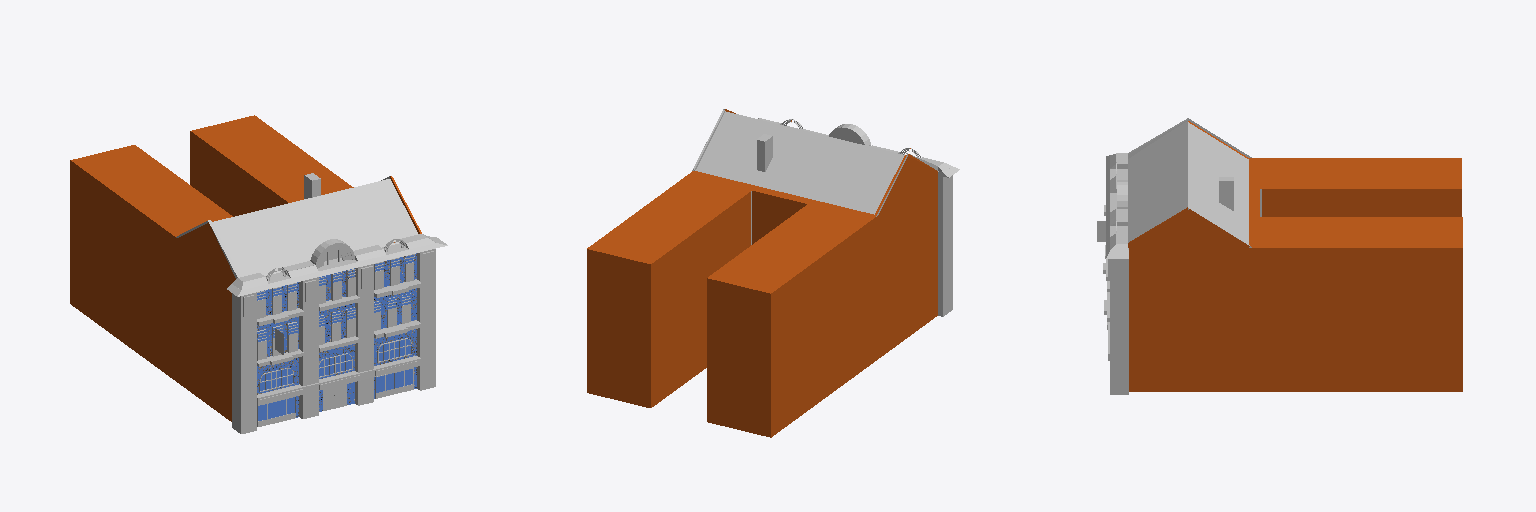
3 views of the same model, side by side, from view 1: azimuth 30°, elevation 25°; view 2: azimuth 150°, elevation 25°; view 3: azimuth 270°, elevation 25° (orthographic).
Visible parts, largest first — view 1: SketchUp.003, SketchUp.004, SketchUp.076, SketchUp.270, SketchUp.006, SketchUp.047, SketchUp.042, SketchUp.038, SketchUp.002; view 2: SketchUp.003, SketchUp.057, SketchUp.004; view 3: SketchUp.003, SketchUp.076, SketchUp.057, SketchUp.004, SketchUp.042.
Boxes of the visible parts, x1,y1,x2,y2 form: SketchUp.003: [70, 115, 421, 421]; SketchUp.004: [232, 249, 435, 433]; SketchUp.076: [213, 179, 417, 276]; SketchUp.270: [257, 253, 416, 417]; SketchUp.006: [310, 239, 357, 268]; SketchUp.047: [258, 258, 394, 286]; SketchUp.042: [377, 234, 446, 257]; SketchUp.038: [227, 273, 280, 296]; SketchUp.002: [238, 241, 413, 426]; SketchUp.003: [587, 109, 937, 437]; SketchUp.057: [695, 111, 904, 214]; SketchUp.004: [938, 172, 952, 316]; SketchUp.003: [1128, 121, 1462, 391]; SketchUp.076: [1128, 121, 1187, 242]; SketchUp.057: [1188, 122, 1248, 244]; SketchUp.004: [1103, 205, 1128, 394]; SketchUp.042: [1106, 223, 1128, 258].
Bounding box in the file's own units: 3.11 × 2.6 × 4.67.
Materials: 7 (1 with a texture image).